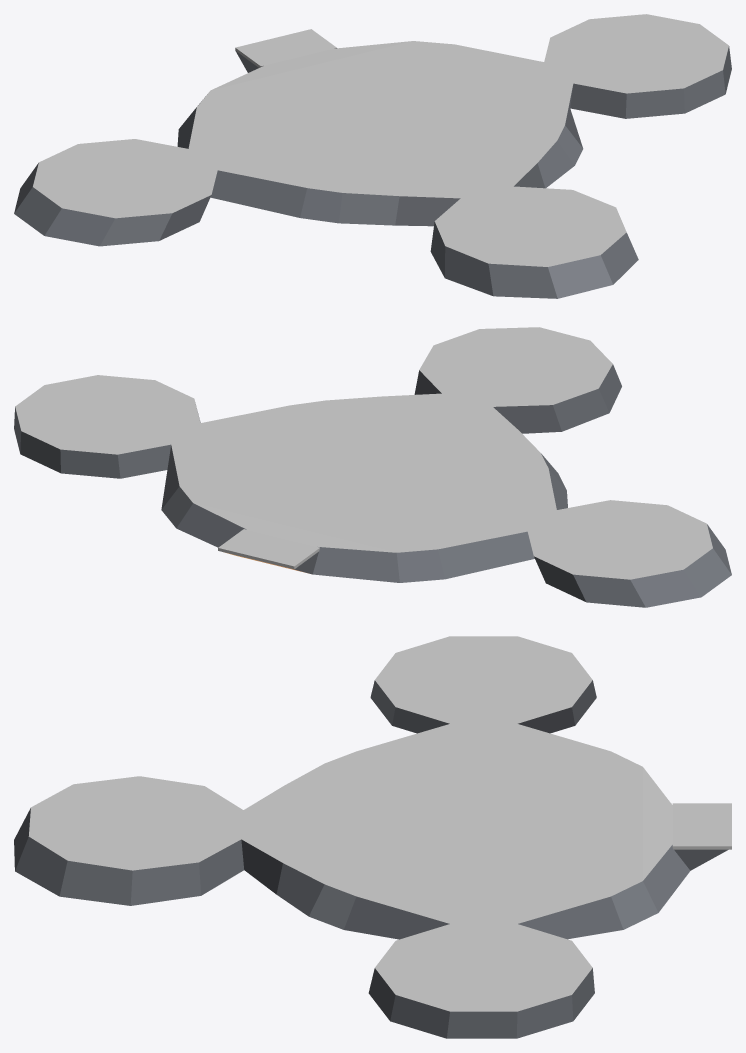
Rendered from levelend3.fbx.
3 renders of one model, top to bottom at view 1: azimuth 30°, elevation 25°; view 2: azimuth 150°, elevation 25°; view 3: azimuth 270°, elevation 25°, orthographic. The views are drawn at different scales.
Visible parts, largest first — view 1: road.003; view 2: road.003; view 3: road.003.
Part boxes in pixels (x1,y1,x2,y2): road.003: (14,14,731,298); road.003: (14,327,731,607); road.003: (14,636,731,1038).
Size of the model in its own units: 57.92 by 2.18 by 45.46.
